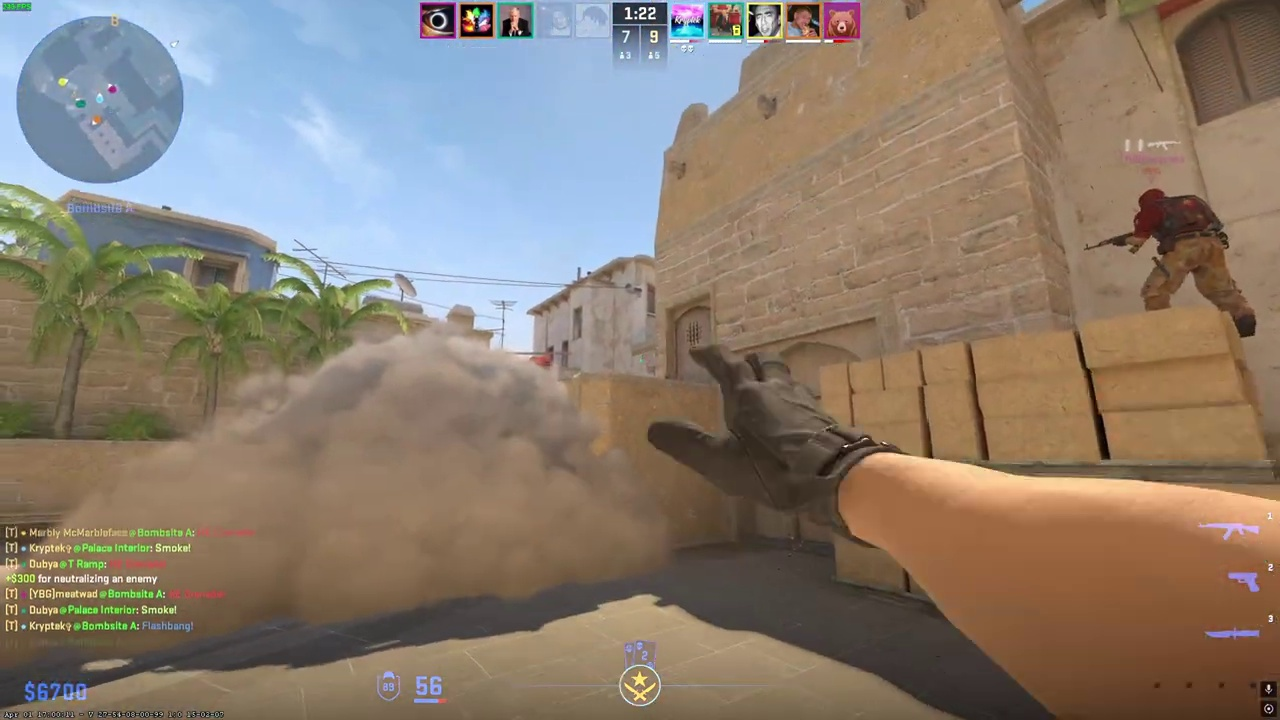Terrorist: (1127, 188, 1256, 338)
